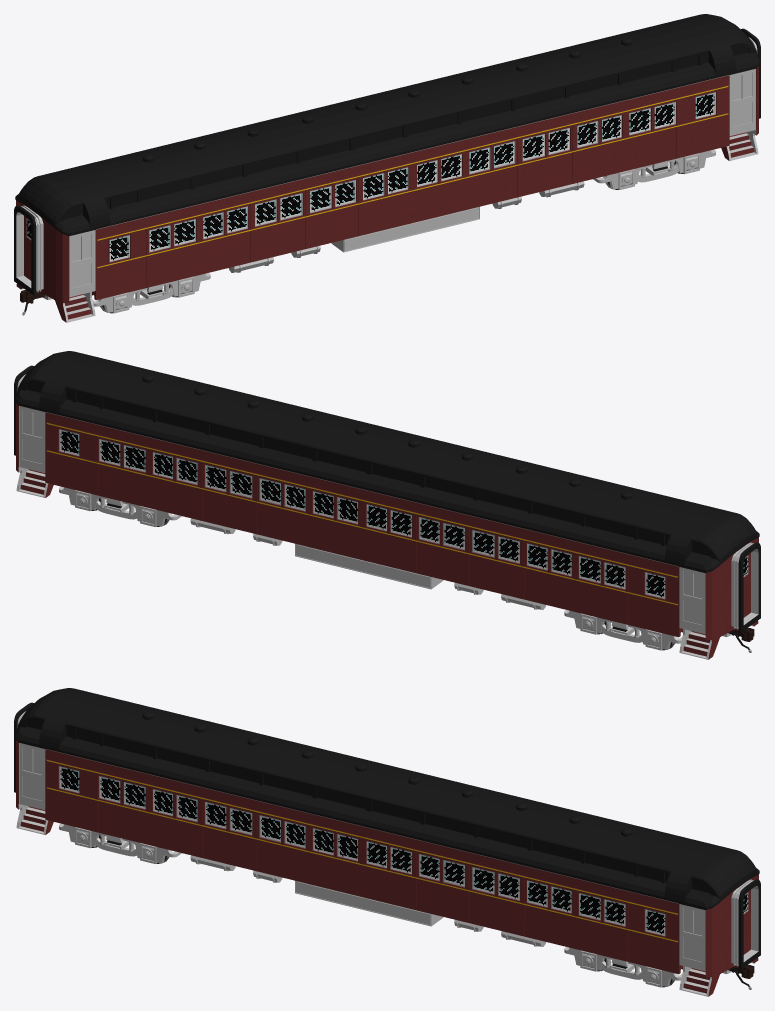
The model's file is p70coach1.obj.
3 renders of one model, top to bottom at view 1: azimuth 30°, elevation 25°; view 2: azimuth 150°, elevation 25°; view 3: azimuth 330°, elevation 25°, orthographic.
Parts seen in each view (by area): view 1: FRAME.002_Cube.004, FRAME.001_Cube.056, FRAME_Cube.003, details.003_Cube.108, BOGEY_REAR_Cube.005, BOGEY_FRONT_Cube.006, Cylinder.008_Cylinder.044; view 2: FRAME.002_Cube.004, FRAME.001_Cube.056, FRAME_Cube.003, details.003_Cube.108, BOGEY_REAR_Cube.005, BOGEY_FRONT_Cube.006, Cylinder.008_Cylinder.044; view 3: FRAME.002_Cube.004, FRAME.001_Cube.056, FRAME_Cube.003, details.003_Cube.108, BOGEY_FRONT_Cube.006, BOGEY_REAR_Cube.005, Cylinder.008_Cylinder.044.
Part boxes in pixels (box(x1,y1,x2,y2)): FRAME.002_Cube.004: box(15, 14, 759, 235); FRAME.001_Cube.056: box(14, 28, 760, 297); FRAME_Cube.003: box(16, 128, 758, 322); details.003_Cube.108: box(69, 69, 755, 297); BOGEY_REAR_Cube.005: box(593, 149, 715, 189); BOGEY_FRONT_Cube.006: box(92, 273, 210, 313); Cylinder.008_Cylinder.044: box(142, 37, 632, 162); FRAME.002_Cube.004: box(15, 351, 759, 572); FRAME.001_Cube.056: box(14, 365, 760, 634); FRAME_Cube.003: box(16, 465, 758, 659); details.003_Cube.108: box(19, 406, 705, 634); BOGEY_REAR_Cube.005: box(59, 486, 181, 526); BOGEY_FRONT_Cube.006: box(564, 610, 682, 650); Cylinder.008_Cylinder.044: box(142, 374, 632, 499); FRAME.002_Cube.004: box(15, 688, 759, 909); FRAME.001_Cube.056: box(14, 702, 760, 971); FRAME_Cube.003: box(16, 802, 758, 996); details.003_Cube.108: box(19, 743, 705, 971); BOGEY_FRONT_Cube.006: box(59, 823, 181, 863); BOGEY_REAR_Cube.005: box(564, 947, 682, 987); Cylinder.008_Cylinder.044: box(142, 711, 632, 836).
Bounding box in the file's own units: 25.63 × 4.6 × 3.12.
